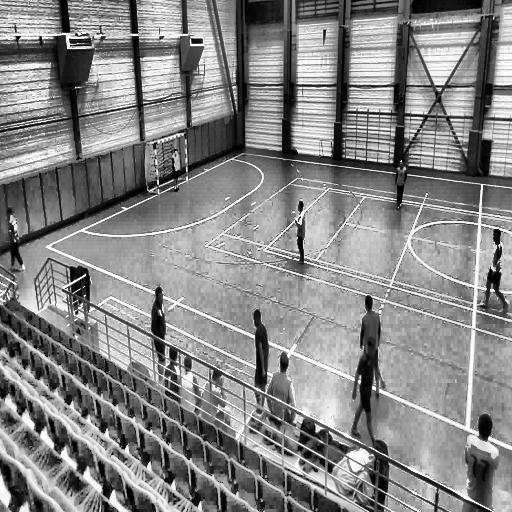player: (464, 412, 498, 512), (350, 337, 380, 443), (358, 292, 386, 402), (480, 226, 509, 314), (252, 309, 270, 406), (4, 202, 26, 274), (150, 286, 167, 378), (295, 200, 307, 265), (394, 156, 408, 210), (172, 146, 181, 194)
